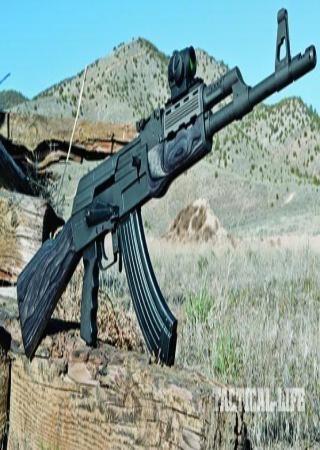weapon: (17, 7, 318, 367)
